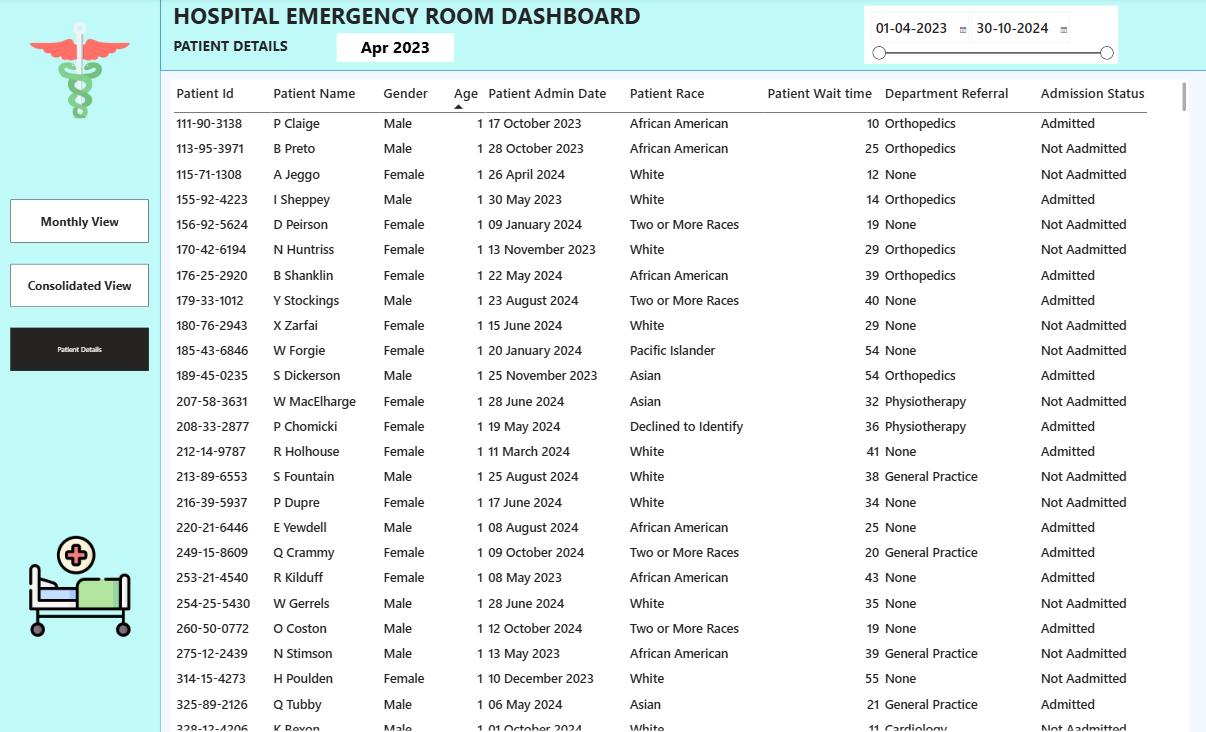

What the dashboard file says about the page in this screenshot:
{"tool":"powerbi","page":{"name":"Patient Details","canvas":[2300,1400],"ordinal":2},"visuals":[{"type":"shape","box":[0,0,309.1,1400.5],"z":0},{"type":"shape","box":[310,0,1990,140],"z":1000},{"type":"textbox","box":[327.5,0,977.5,85],"z":2000},{"type":"textbox","box":[327.5,70,330,72.5],"z":3000},{"type":"slicer","fields":{"Values":["Date Table.Date"]},"box":[1647.8,16.6,482.7,109.4],"z":4000},{"type":"card","fields":{"Values":["Min(Date Table.Month & Year)"]},"box":[644.4,69,223.5,54.7],"z":5000},{"type":"tableEx","fields":{"Values":["Hospital ER_Data.Patient Id","Hospital ER_Data.Full Name","Hospital ER_Data.Patient Gender","Sum(Hospital ER_Data.Patient Age)","Hospital ER_Data.Patient Admin Date","Hospital ER_Data.Patient Race","Sum(Hospital ER_Data.Patient Waittime)","Hospital ER_Data.Department Referral","Hospital ER_Data.Admission Status"]},"box":[328.1,156.9,1937.8,1243.6],"z":6000},{"type":"pageNavigator","box":[23.8,385.2,263.9,328.1],"z":7000},{"type":"image","box":[59.4,1003.4,192.6,235.4],"z":8001},{"type":"image","box":[49.9,47.6,211.6,183.1],"z":8002}]}

Visuals, with their boxes in screenshot pixels (x1, y1, x2, y2), scaled from the page's 2300x1400 canvas onto the 1206x732 screenshot:
shape: 0,0,162,731
shape: 163,0,1205,73
textbox: 172,0,684,44
textbox: 172,37,345,75
slicer - Date Table.Date: 864,9,1117,66
card - Min(Date Table.Month & Year): 338,36,455,65
tableEx - Hospital ER_Data.Patient Id x Hospital ER_Data.Full Name: 172,82,1188,731
pageNavigator: 12,201,151,373
image: 31,525,132,648
image: 26,25,137,121
